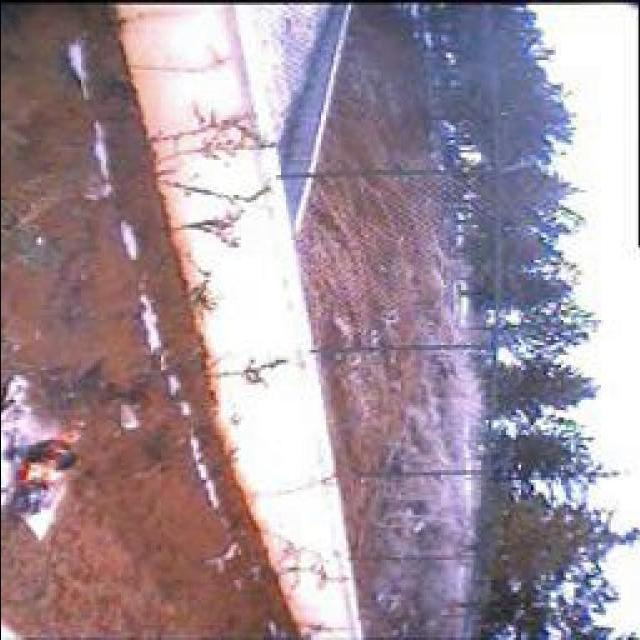Fire: (4, 418, 91, 520)
